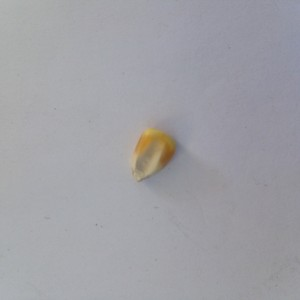maiz: (124, 124, 180, 187)
